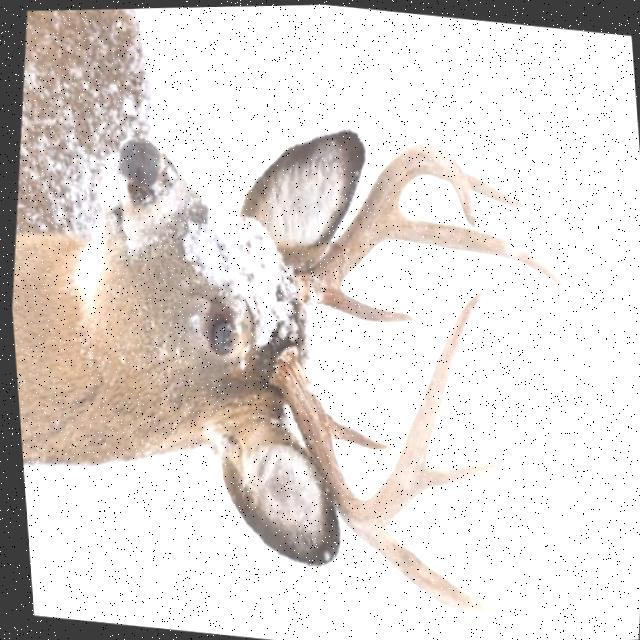L-F: (269, 284, 484, 530)
L-G1: (328, 418, 387, 448)
L-G2: (343, 525, 519, 616)
L-G3: (416, 460, 506, 489)
R-F: (293, 137, 475, 304)
R-G1: (323, 284, 414, 322)
R-G2: (382, 207, 564, 287)
